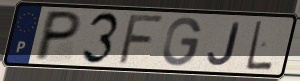3: (78, 10, 123, 66)
F: (115, 14, 167, 67)
G: (161, 16, 203, 69)
J: (206, 20, 243, 67)
L: (245, 19, 275, 72)
P: (31, 9, 85, 63)
